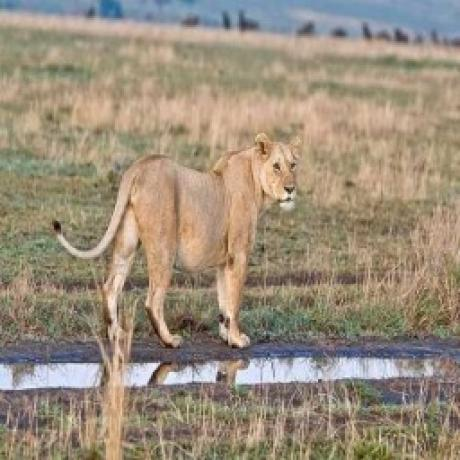Lion: (50, 129, 303, 350)
